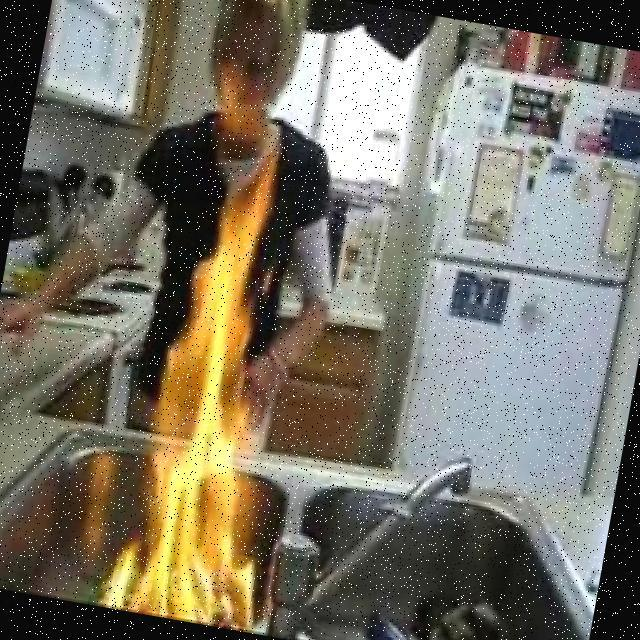Fire: (117, 156, 320, 631)
